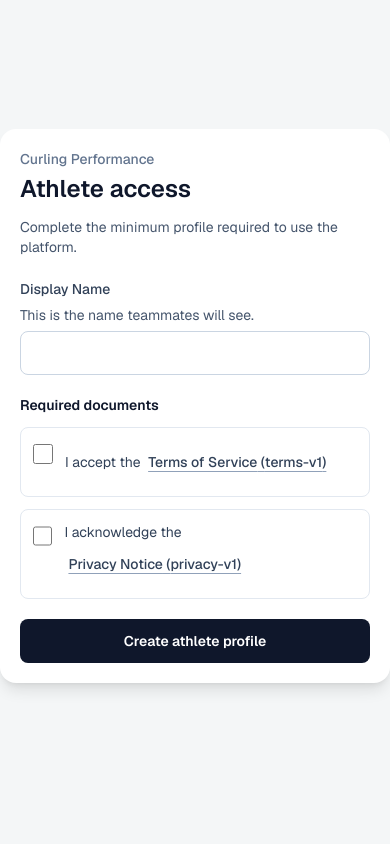
Scenario: IdentityProvider › preserves the display name but resets both confirmations after legal rotation
The width and height of the screenshot is (390, 844).
Type "Skip Stone" into the field labelled "Display Name" at coordinates (195, 353), box [20, 331, 370, 375]
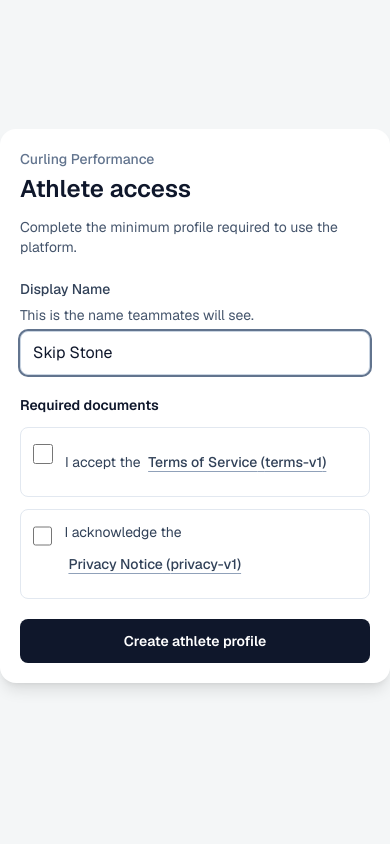
Click the checkbox labelled "I accept the" at coordinates (43, 454), box [33, 444, 53, 464]
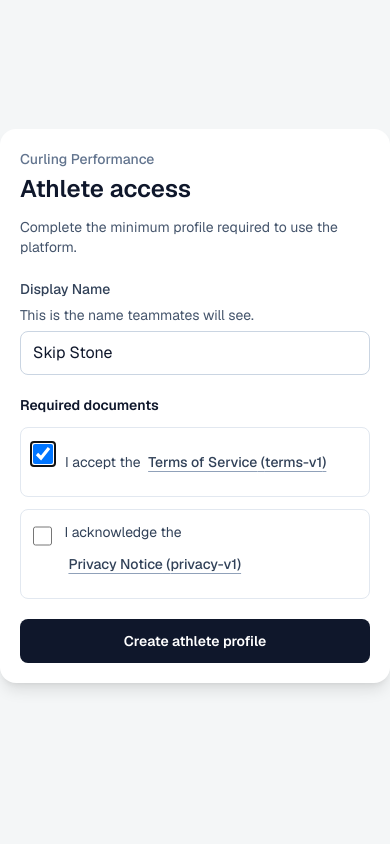
Click the checkbox labelled "I acknowledge the" at coordinates (43, 536), box [33, 526, 52, 546]
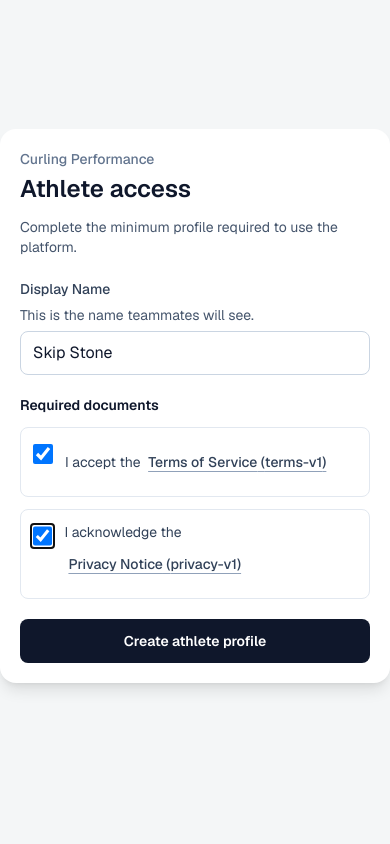
Click the button "Create athlete profile" at coordinates (195, 641), box [20, 619, 370, 663]
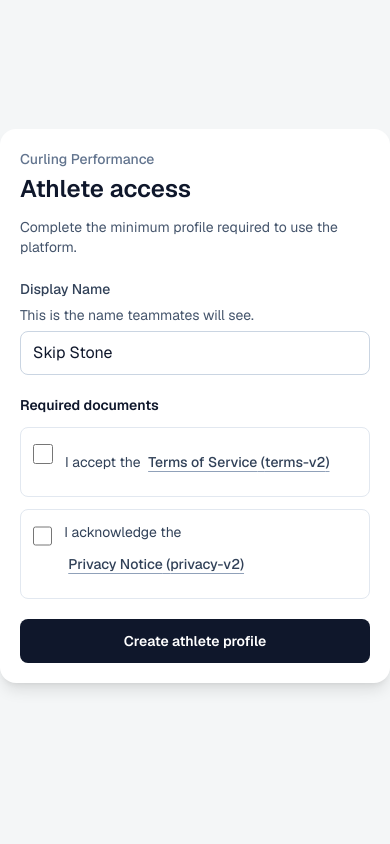
expect the field labelled "Display Name" holds "Skip Stone": met, box [20, 331, 370, 375]
expect the checkbox labelled "I accept the" is not checked: met, box [33, 444, 53, 464]
expect the checkbox labelled "I acknowledge the" is not checked: met, box [33, 526, 52, 546]
